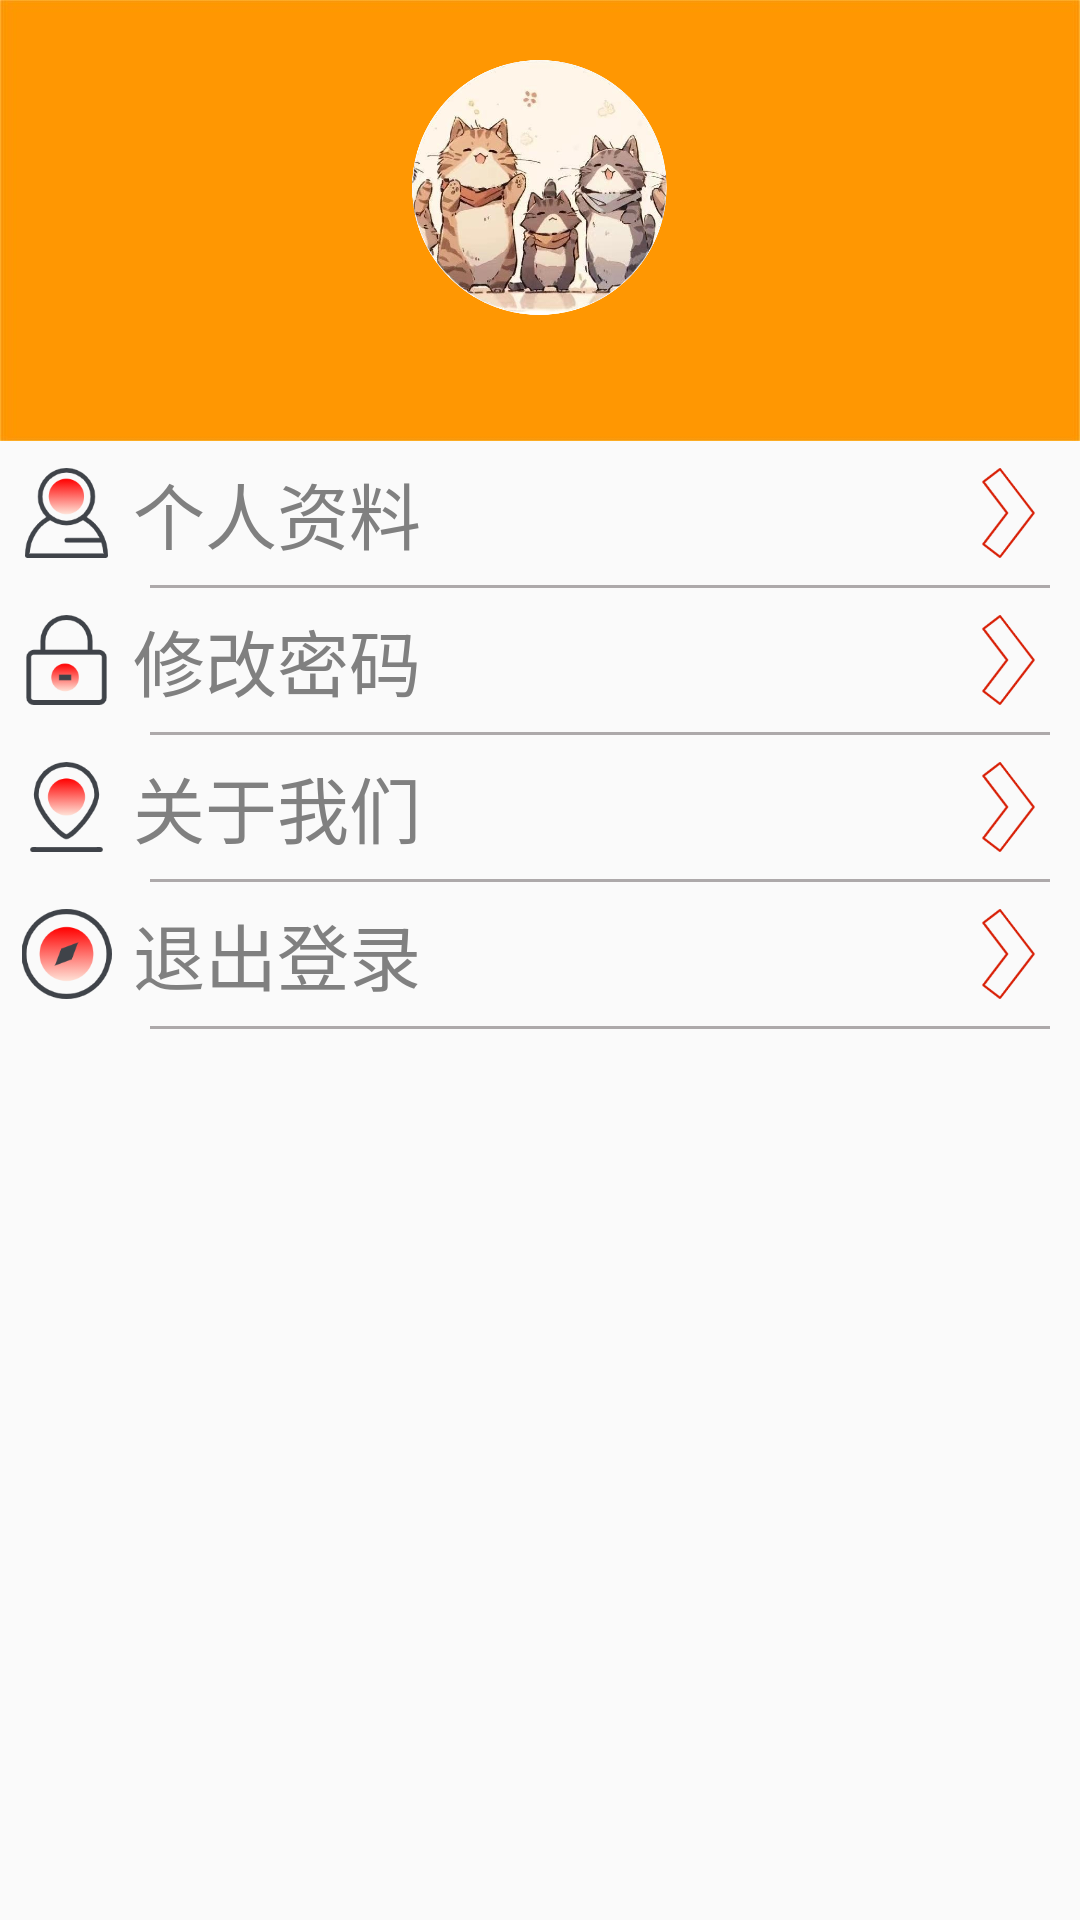

Icon click points for this 1080*1920 phone screenshot, format point (x, y):
person: point (66, 513)
right: point (1008, 513), point (1008, 660), point (1008, 807), point (1008, 954)
